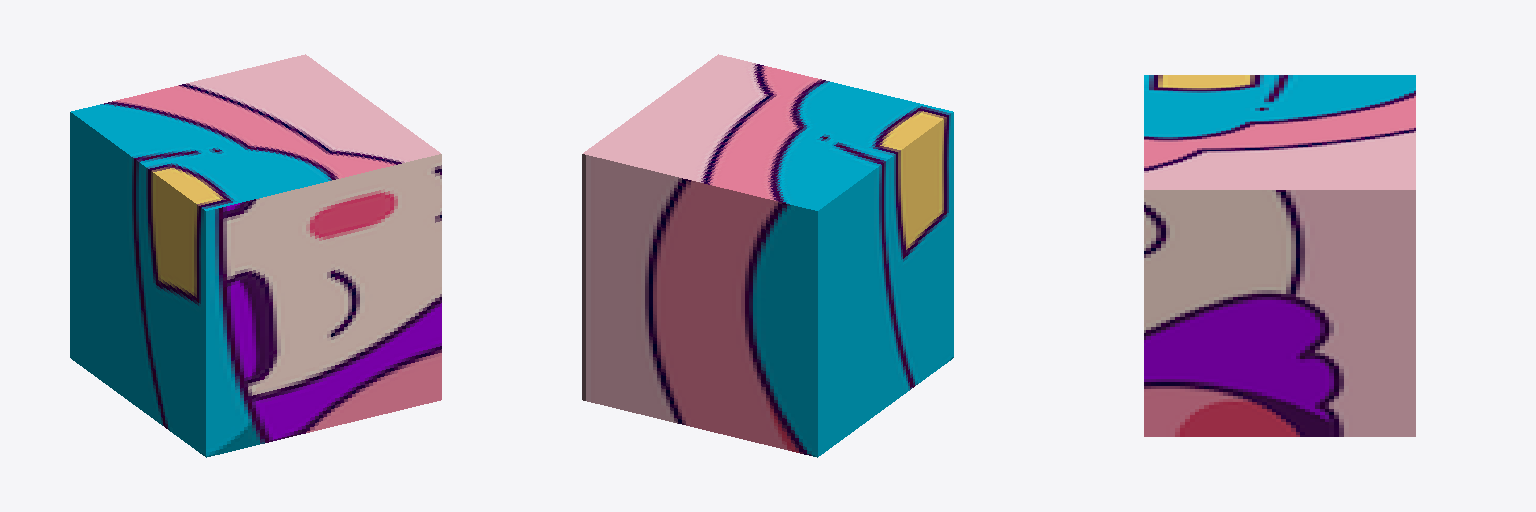
3 renders of one model, left to right at view 1: azimuth 30°, elevation 25°; view 2: azimuth 150°, elevation 25°; view 3: azimuth 270°, elevation 25°, orthographic.
Visible parts, largest first — view 1: Cube; view 2: Cube; view 3: Cube.
Part boxes in pixels (x1,y1,x2,y2): Cube: (70,54,441,457); Cube: (582,54,953,457); Cube: (1144,75,1415,436).
Size of the model in its own units: 0.478 by 0.478 by 0.478.
Materials: 1 (1 with a texture image).